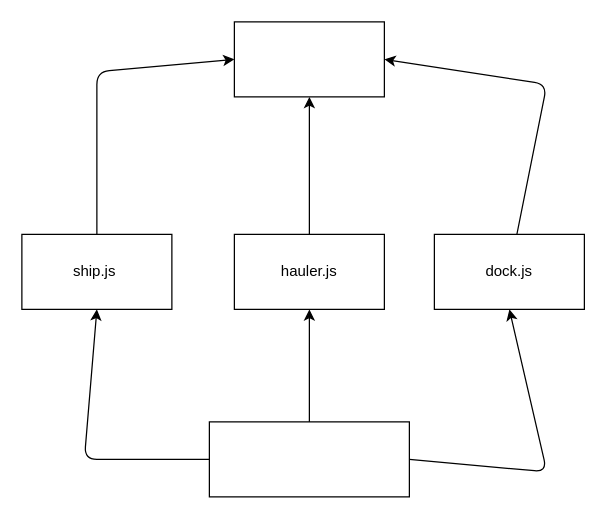
This 606x519 diagram has some shape labels left out. The centre of each missing label's shape, as x and y in pixels:
database.js: the point at 308,459
renderHtml.js: the point at 308,59
